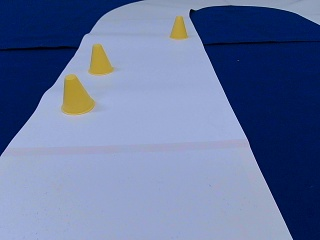cone: (60, 75, 95, 114), (87, 44, 112, 74), (170, 16, 187, 39)
